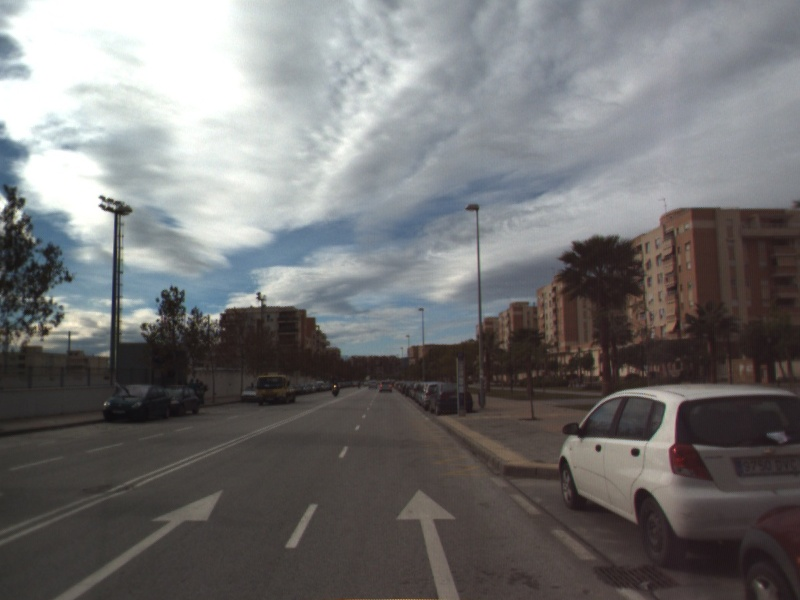STRAIGHT: (50, 487, 225, 600), (394, 487, 462, 600)
